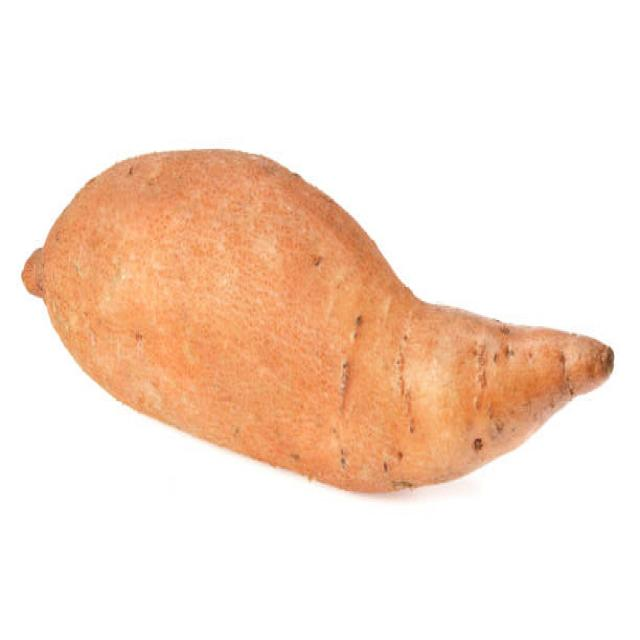Sweet Potato: (20, 139, 618, 505)
